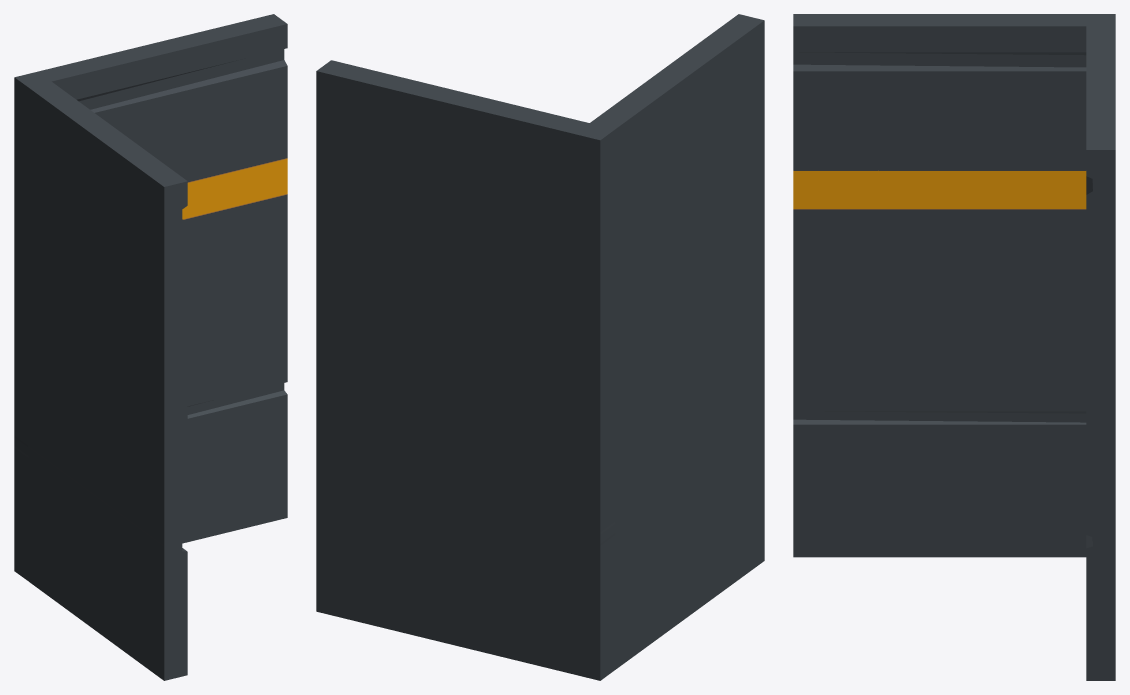
File: NLICorner.glb
3 renders of one model, left to right at view 1: azimuth 30°, elevation 25°; view 2: azimuth 150°, elevation 25°; view 3: azimuth 270°, elevation 25°, orthographic. The views are drawn at different scales.
Parts seen in each view (by area): view 1: Cube.001; view 2: Cube.001; view 3: Cube.001.
Boxes of the visible parts, <box> form: Cube.001: <box>14,14,287,680</box>; Cube.001: <box>316,14,764,680</box>; Cube.001: <box>793,14,1115,680</box>.
Bounding box in the file's own units: 2.2 × 4 × 2.2.
2 materials, 1 textured.
